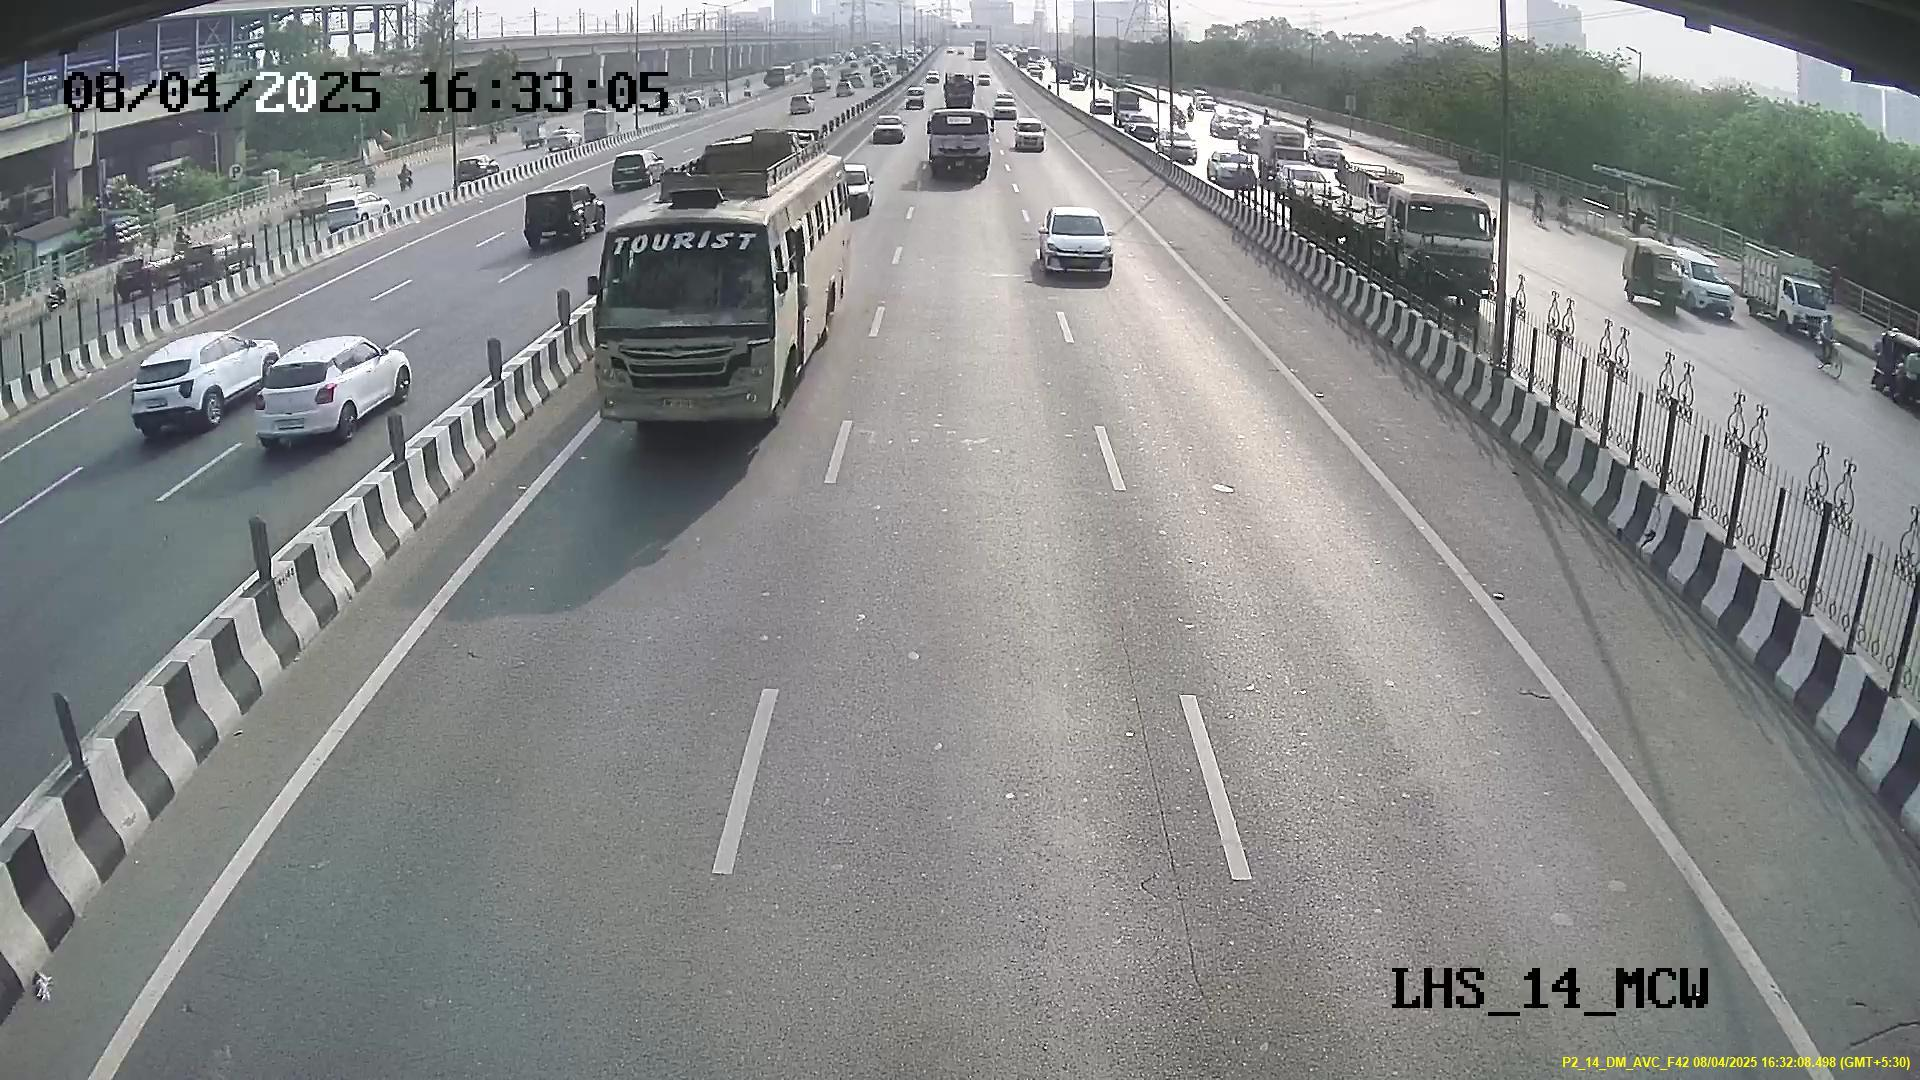bus: (585, 182, 823, 434)
